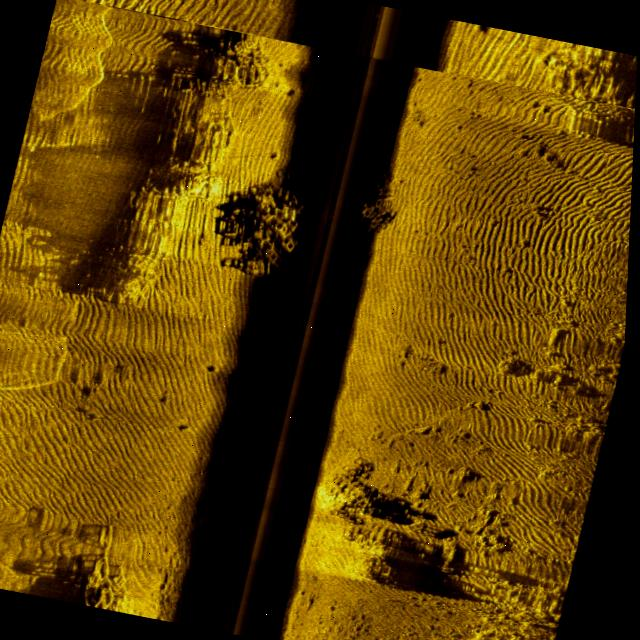artificial reef: (218, 158, 322, 300), (78, 522, 154, 614), (344, 158, 408, 256)
